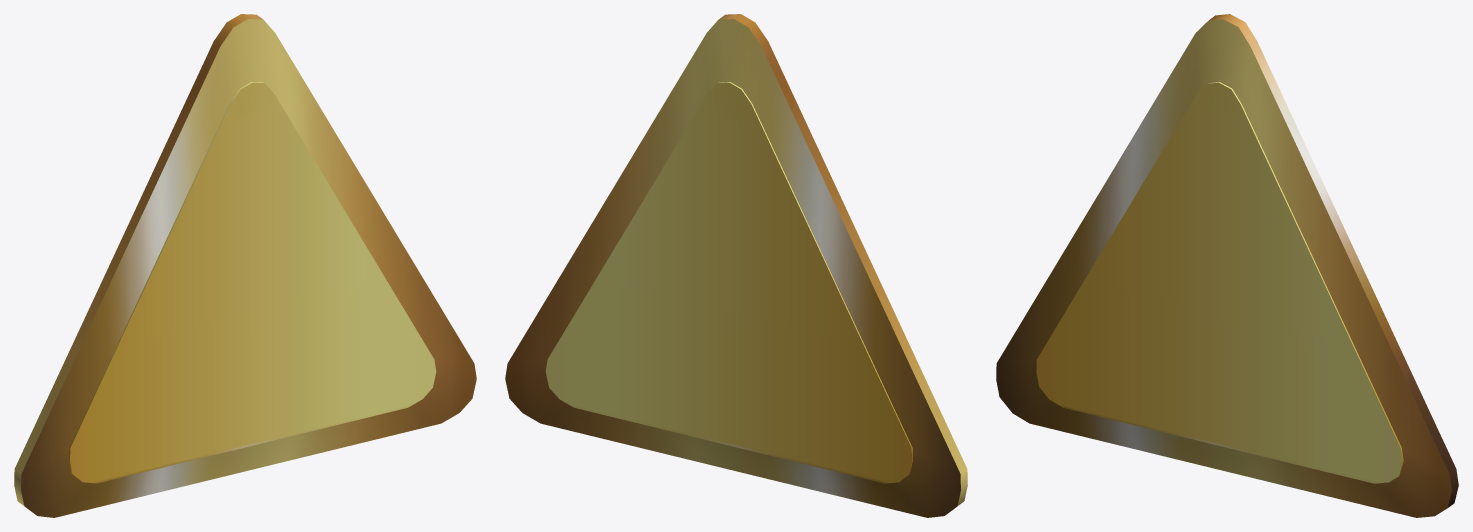
The model's file is badge_triangle.FBX.
3 views of the same model, side by side, from view 1: azimuth 30°, elevation 25°; view 2: azimuth 150°, elevation 25°; view 3: azimuth 330°, elevation 25° (orthographic).
Visible parts, largest first — view 1: badge_triangle; view 2: badge_triangle; view 3: badge_triangle.
Boxes of the visible parts, x1,y1,x2,y2 form: badge_triangle: [14, 14, 476, 517]; badge_triangle: [505, 14, 967, 517]; badge_triangle: [996, 14, 1458, 517].
Size of the model in its own units: 157 by 149 by 9.26.
1 material, 1 textured.
